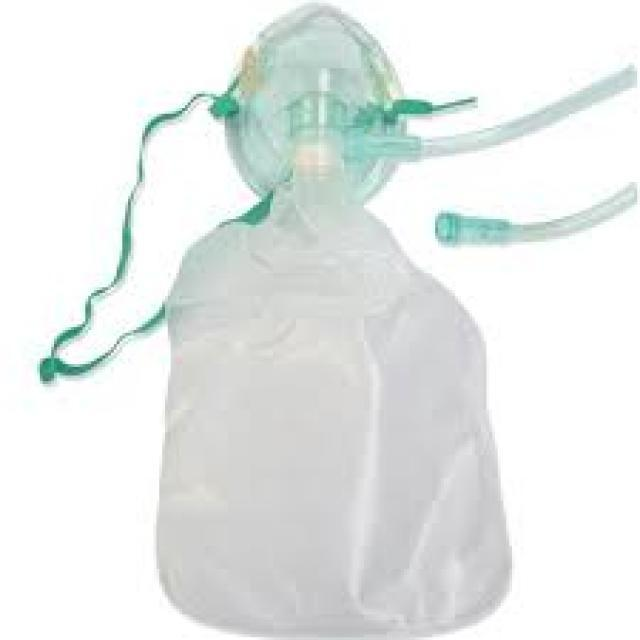oxygen_mask: (170, 57, 444, 517)
